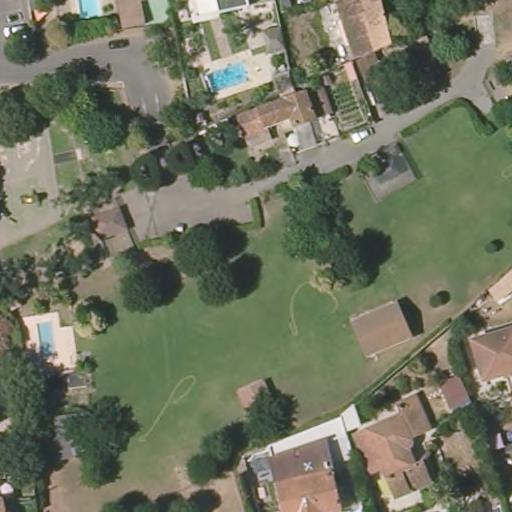pool: (204, 61, 249, 94), (34, 317, 58, 360), (77, 0, 105, 19)
